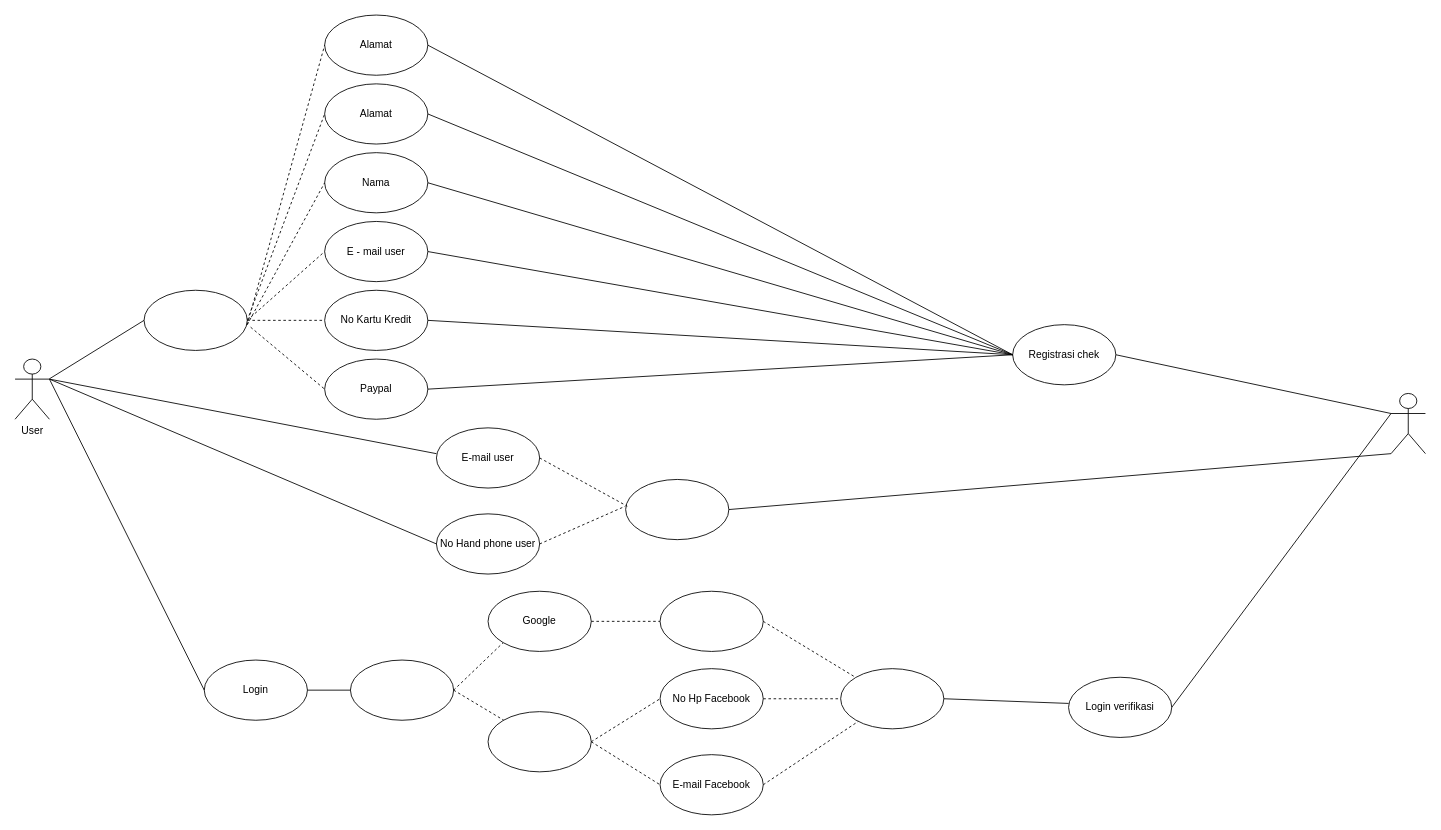
This 1441x830 diagram has some shape labels left out. The shapes that lost their labels are listed below. From the top down, each one's centre as x and y in pixels, then its label:
point (195, 319): Registrasi
point (1407, 423): Admin
point (677, 509): Notifikasi User : Pass
point (711, 620): Google E - mail
point (402, 689): Sign dengan data
point (892, 698): OTP
point (539, 741): Facebook
